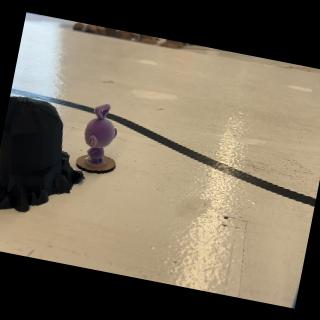teletubby: (84, 104, 116, 165)
